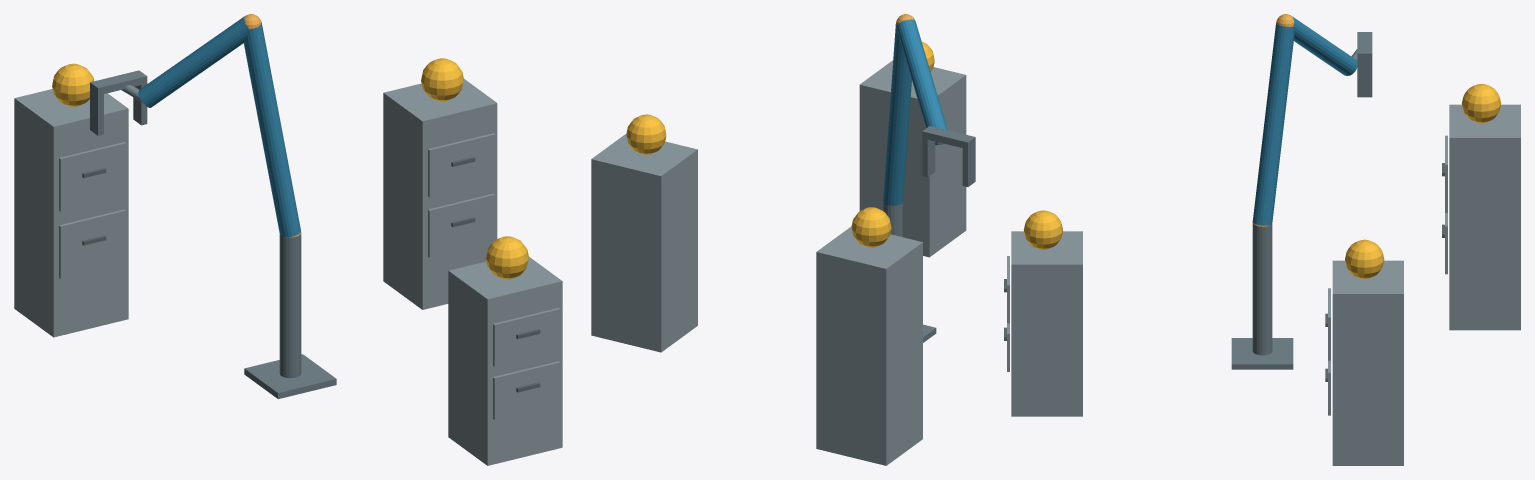
The picture shows the model from 3 angles, left to right: view 1: azimuth 30°, elevation 25°; view 2: azimuth 150°, elevation 25°; view 3: azimuth 270°, elevation 25°; orthographic projection. The views are drawn at different scales.
Visible parts, largest first — view 1: cabinet_3 body, cabinet_2 body, cabinet_1 body, moving link 1, cabinet_3 drawer front, cabinet_3 drawer front.001, cabinet_2 drawer front.001, fixed post, cabinet_2 drawer front, cabinet_1 drawer front, cabinet_1 drawer front.001, moving link 2 (+6 smaller); view 2: cabinet_3 body, cabinet_2 body, cabinet_1 body, moving link 1, moving link 2, ball ball_3, released ball_2, gripper bridge, gripper finger -1, fixed post, gripper finger 1; view 3: cabinet_3 body, cabinet_2 body, cabinet_1 body, moving link 1, fixed post, pedestal, moving link 2, released ball_1, released ball_2, ball ball_3, gripper finger 1.
Part boxes in pixels (left/top/right/bottom): cabinet_3 body: left=14, top=89, right=128, bottom=337; cabinet_2 body: left=383, top=79, right=497, bottom=309; cabinet_1 body: left=448, top=257, right=562, bottom=465; moving link 1: left=243, top=23, right=300, bottom=237; cabinet_3 drawer front: left=59, top=209, right=126, bottom=279; cabinet_3 drawer front.001: left=59, top=142, right=126, bottom=211; cabinet_2 drawer front.001: left=428, top=133, right=495, bottom=197; fixed post: left=279, top=233, right=301, bottom=378; cabinet_2 drawer front: left=428, top=193, right=495, bottom=257; cabinet_1 drawer front: left=493, top=361, right=560, bottom=419; cabinet_1 drawer front.001: left=493, top=308, right=560, bottom=366; moving link 2: left=138, top=16, right=249, bottom=107; cabinet_3 body: left=816, top=226, right=922, bottom=465; cabinet_2 body: left=591, top=134, right=697, bottom=352; cabinet_1 body: left=859, top=60, right=966, bottom=257; moving link 1: left=883, top=24, right=911, bottom=206; moving link 2: left=896, top=19, right=947, bottom=145; ball ball_3: left=851, top=207, right=891, bottom=247; released ball_2: left=626, top=114, right=666, bottom=154; gripper bridge: left=922, top=126, right=975, bottom=149; gripper finger -1: left=962, top=144, right=975, bottom=186; fixed post: left=883, top=201, right=903, bottom=237; gripper finger 1: left=922, top=138, right=935, bottom=177; cabinet_3 body: left=1449, top=104, right=1520, bottom=330; cabinet_2 body: left=1332, top=260, right=1403, bottom=465; cabinet_1 body: left=1011, top=231, right=1082, bottom=416; moving link 1: left=1252, top=23, right=1294, bottom=225; fixed post: left=1252, top=223, right=1272, bottom=355; pedestal: left=1231, top=338, right=1293, bottom=369; moving link 2: left=1292, top=16, right=1357, bottom=75; released ball_1: left=1024, top=210, right=1062, bottom=249; released ball_2: left=1345, top=239, right=1384, bottom=278; ball ball_3: left=1462, top=84, right=1501, bottom=123; gripper finger 1: left=1357, top=60, right=1372, bottom=97.
Size of the model in its own units: 1.65 by 1.48 by 2.1.
